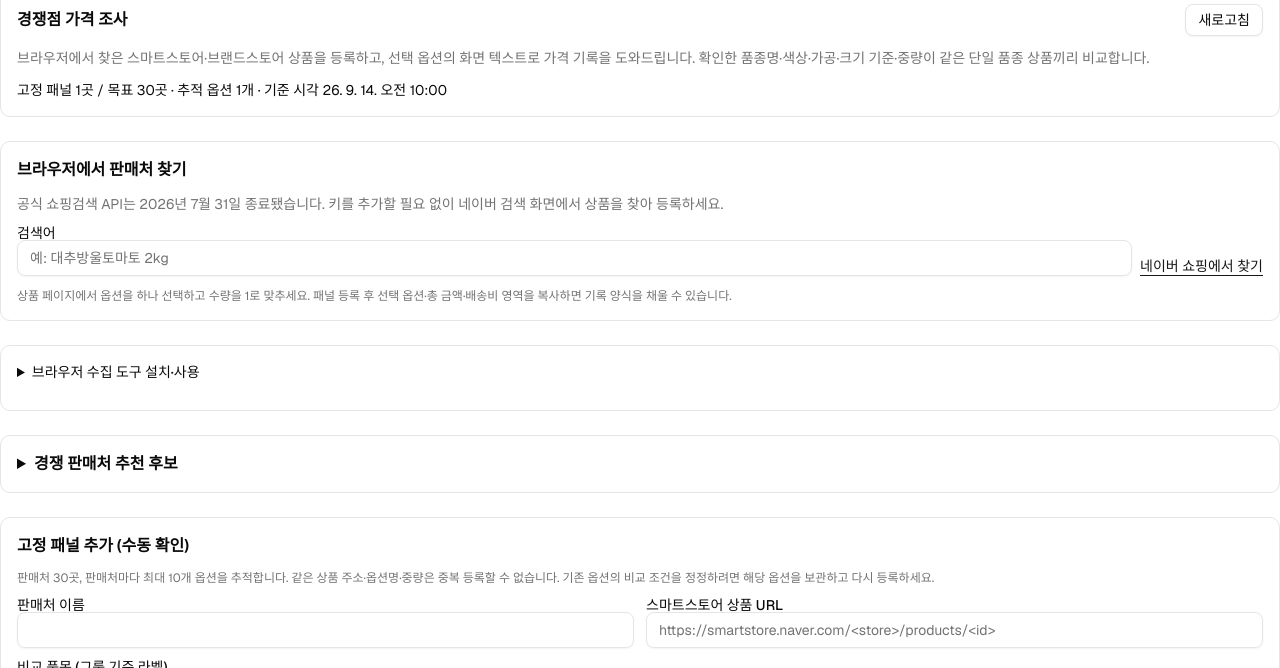
rejects a non-smartstore URL before posting
Expected: the text "고정 패널 1곳 / 목표 30곳" is shown, top-left (17, 81), bottom-right (447, 99)
Type "농장C" into the field labelled "판매처 이름" at (326, 630), box top-left (17, 612), bottom-right (634, 648)
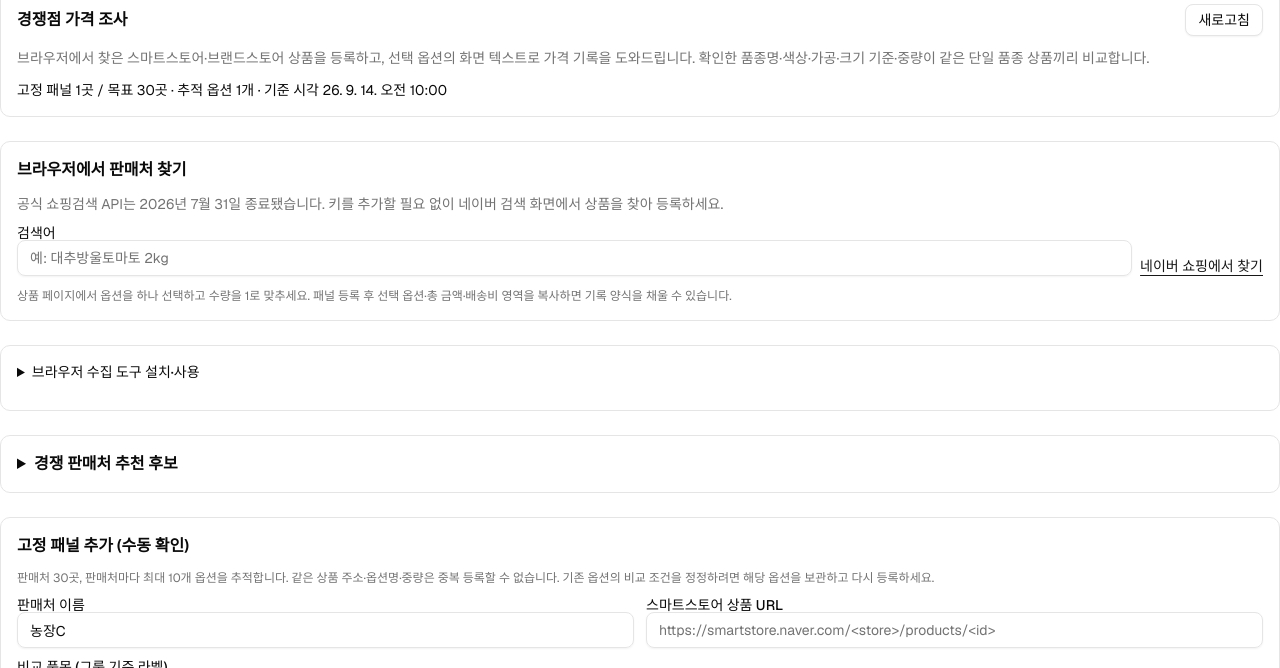
Type "https://example.com/products/1" into the field labelled "스마트스토어 상품 URL" at (954, 630), box top-left (646, 612), bottom-right (1263, 648)
(page scrolled)
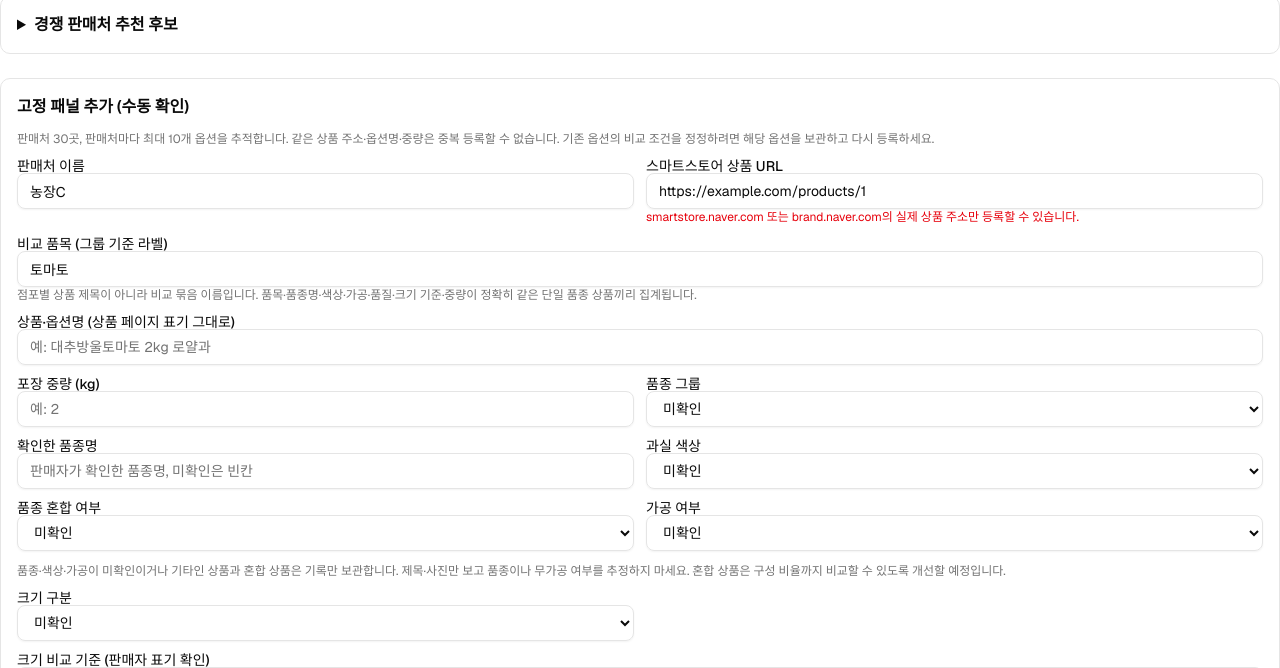
Type "1kg" into the field labelled "상품·옵션명 (상품 페이지 표기 그대로)" at (640, 347), box top-left (17, 329), bottom-right (1263, 365)
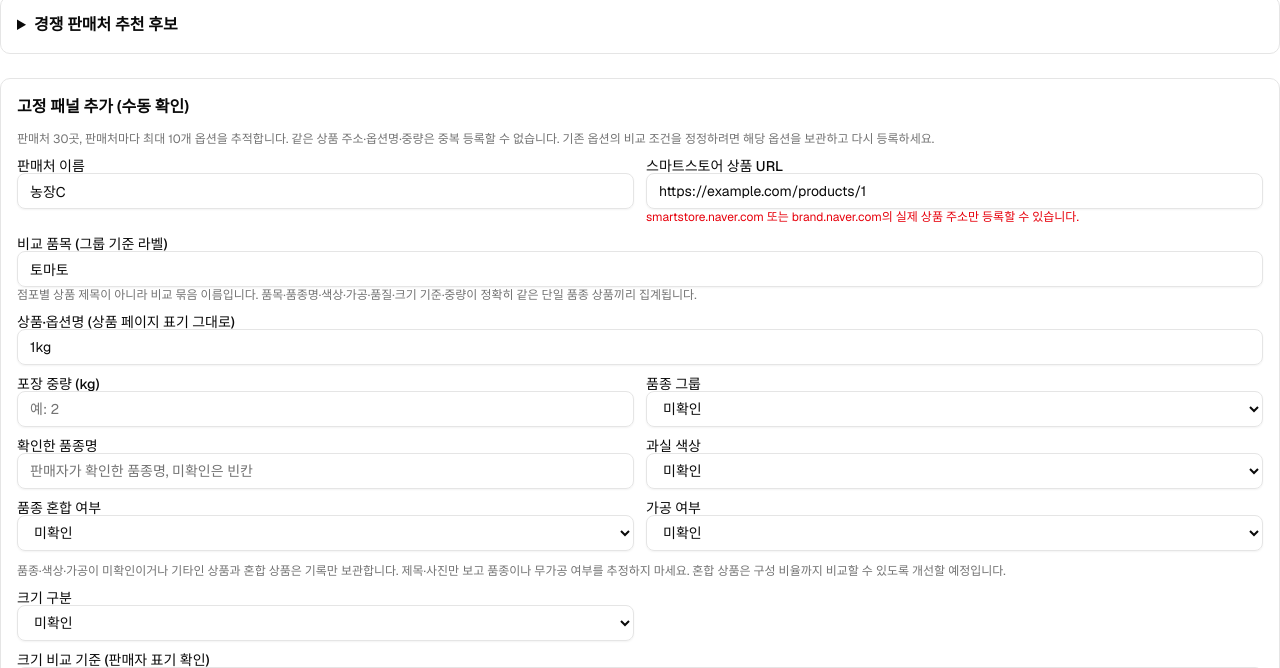
Type "1" into the field labelled "포장 중량 (kg)" at (326, 409), box top-left (17, 391), bottom-right (634, 427)
(page scrolled)
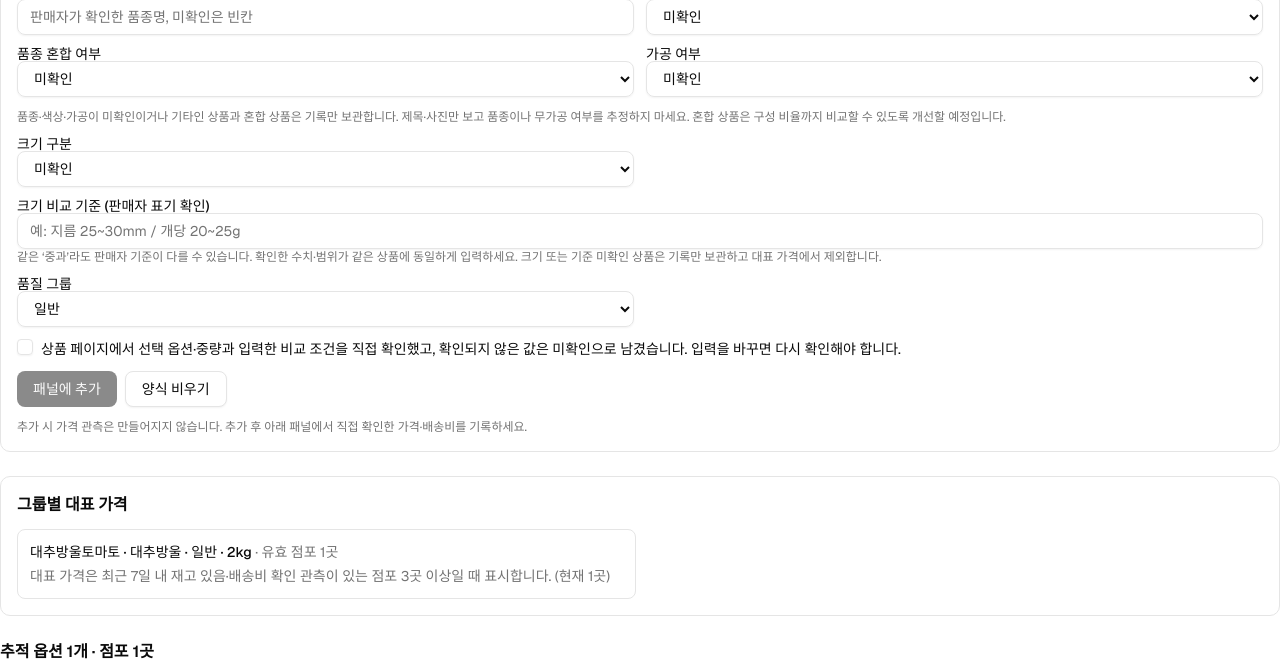
Click the checkbox named "상품 페이지에서 직접 확인함" at (25, 347), box top-left (17, 339), bottom-right (33, 355)
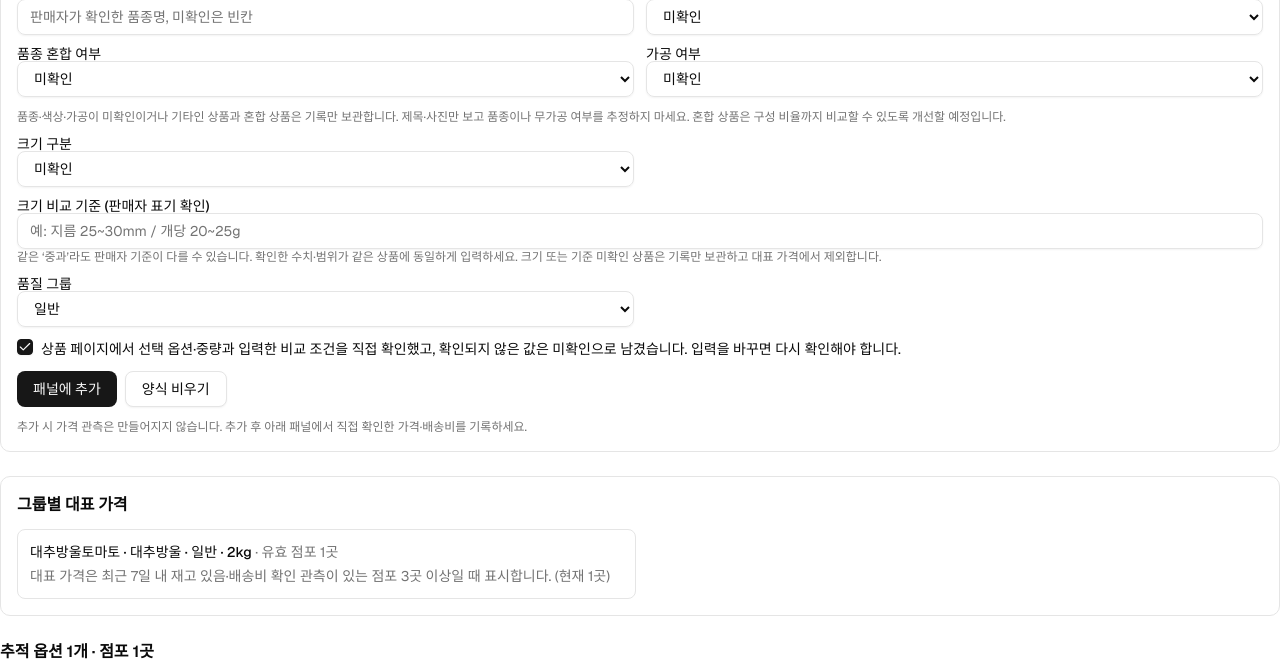
Click the button "패널에 추가" at (67, 389), box top-left (17, 371), bottom-right (117, 407)
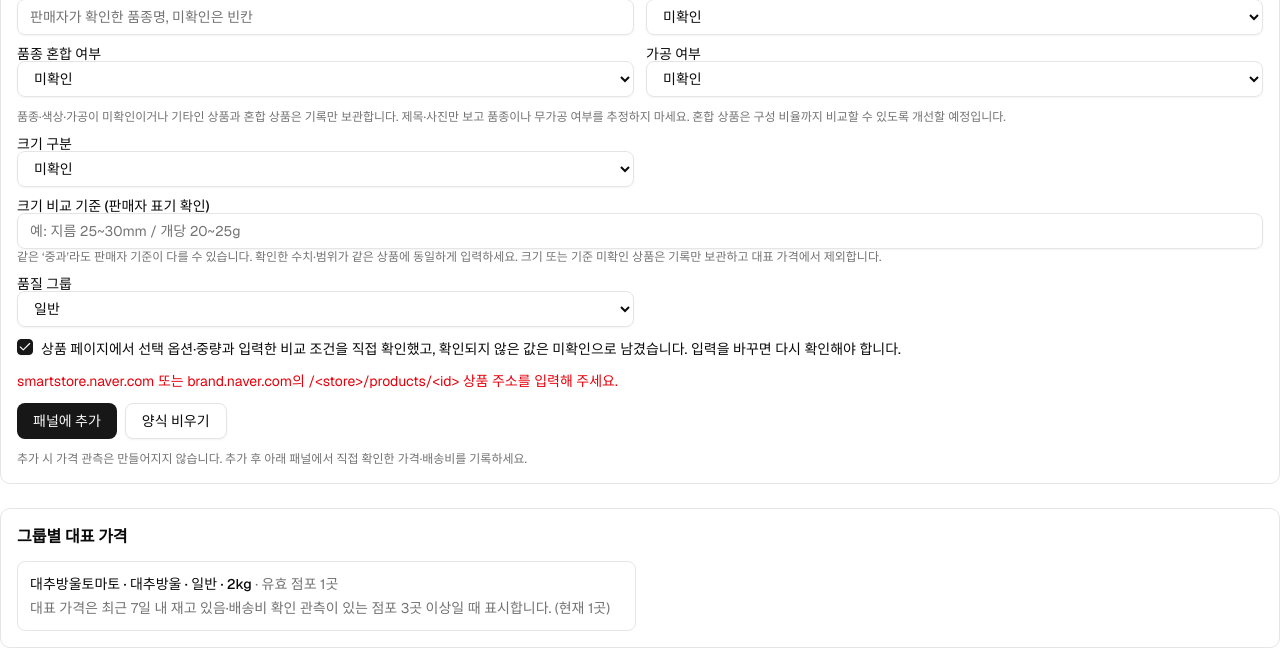
Expected: the message shows "smartstore.naver.com", top-left (17, 372), bottom-right (618, 390)
